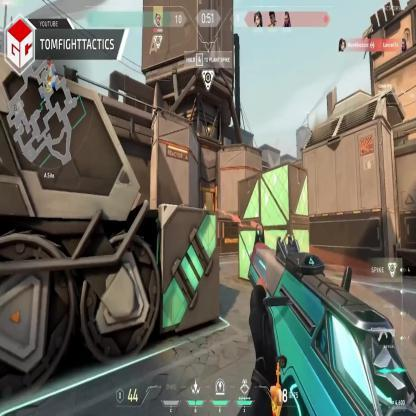enemy: (202, 204, 206, 218)
enemy_head: (204, 204, 206, 208)
